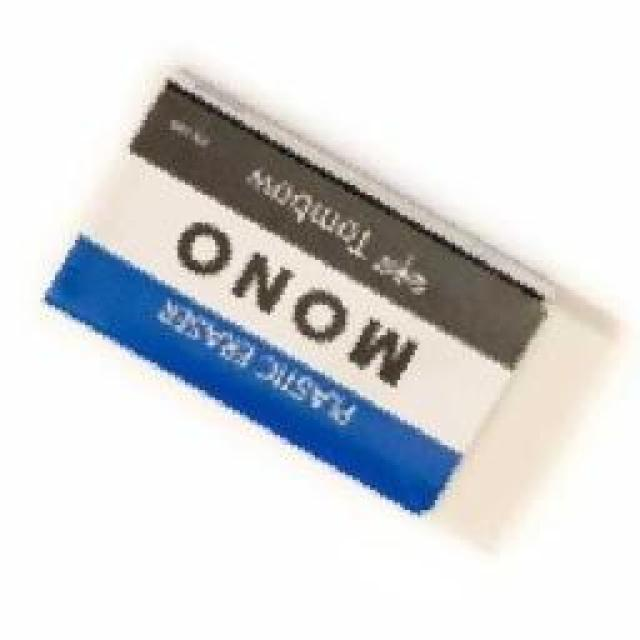Silgi: (44, 67, 560, 520)
